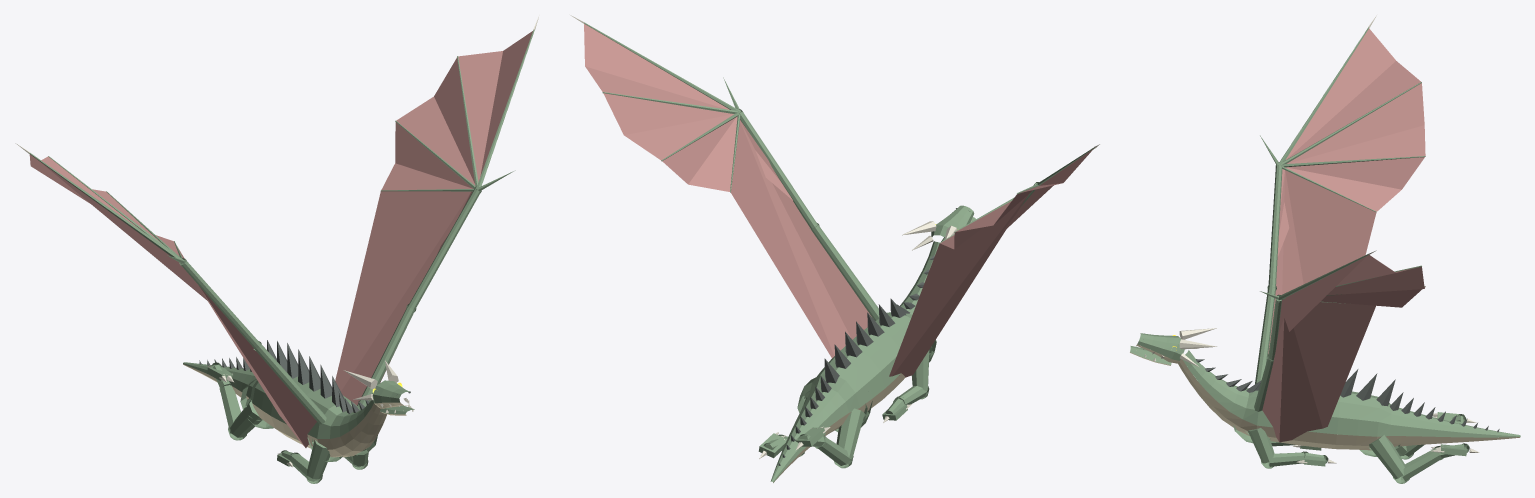
Rendered from dragons-and-wyverns-western-dragon-flying-wings-up-58ba034c__36699.glb.
The picture shows the model from 3 angles, left to right: view 1: azimuth 30°, elevation 25°; view 2: azimuth 150°, elevation 25°; view 3: azimuth 270°, elevation 25°; orthographic projection. The views are drawn at different scales.
Visible parts, largest first — view 1: western-dragon-flying-wings-up; view 2: western-dragon-flying-wings-up; view 3: western-dragon-flying-wings-up.
Boxes of the visible parts, x1=… form: western-dragon-flying-wings-up: x1=15, y1=15, x2=539, y2=483; western-dragon-flying-wings-up: x1=570, y1=15, x2=1099, y2=482; western-dragon-flying-wings-up: x1=1130, y1=15, x2=1520, y2=483.
Bounding box in the file's own units: 9.39 × 6.31 × 6.58.
